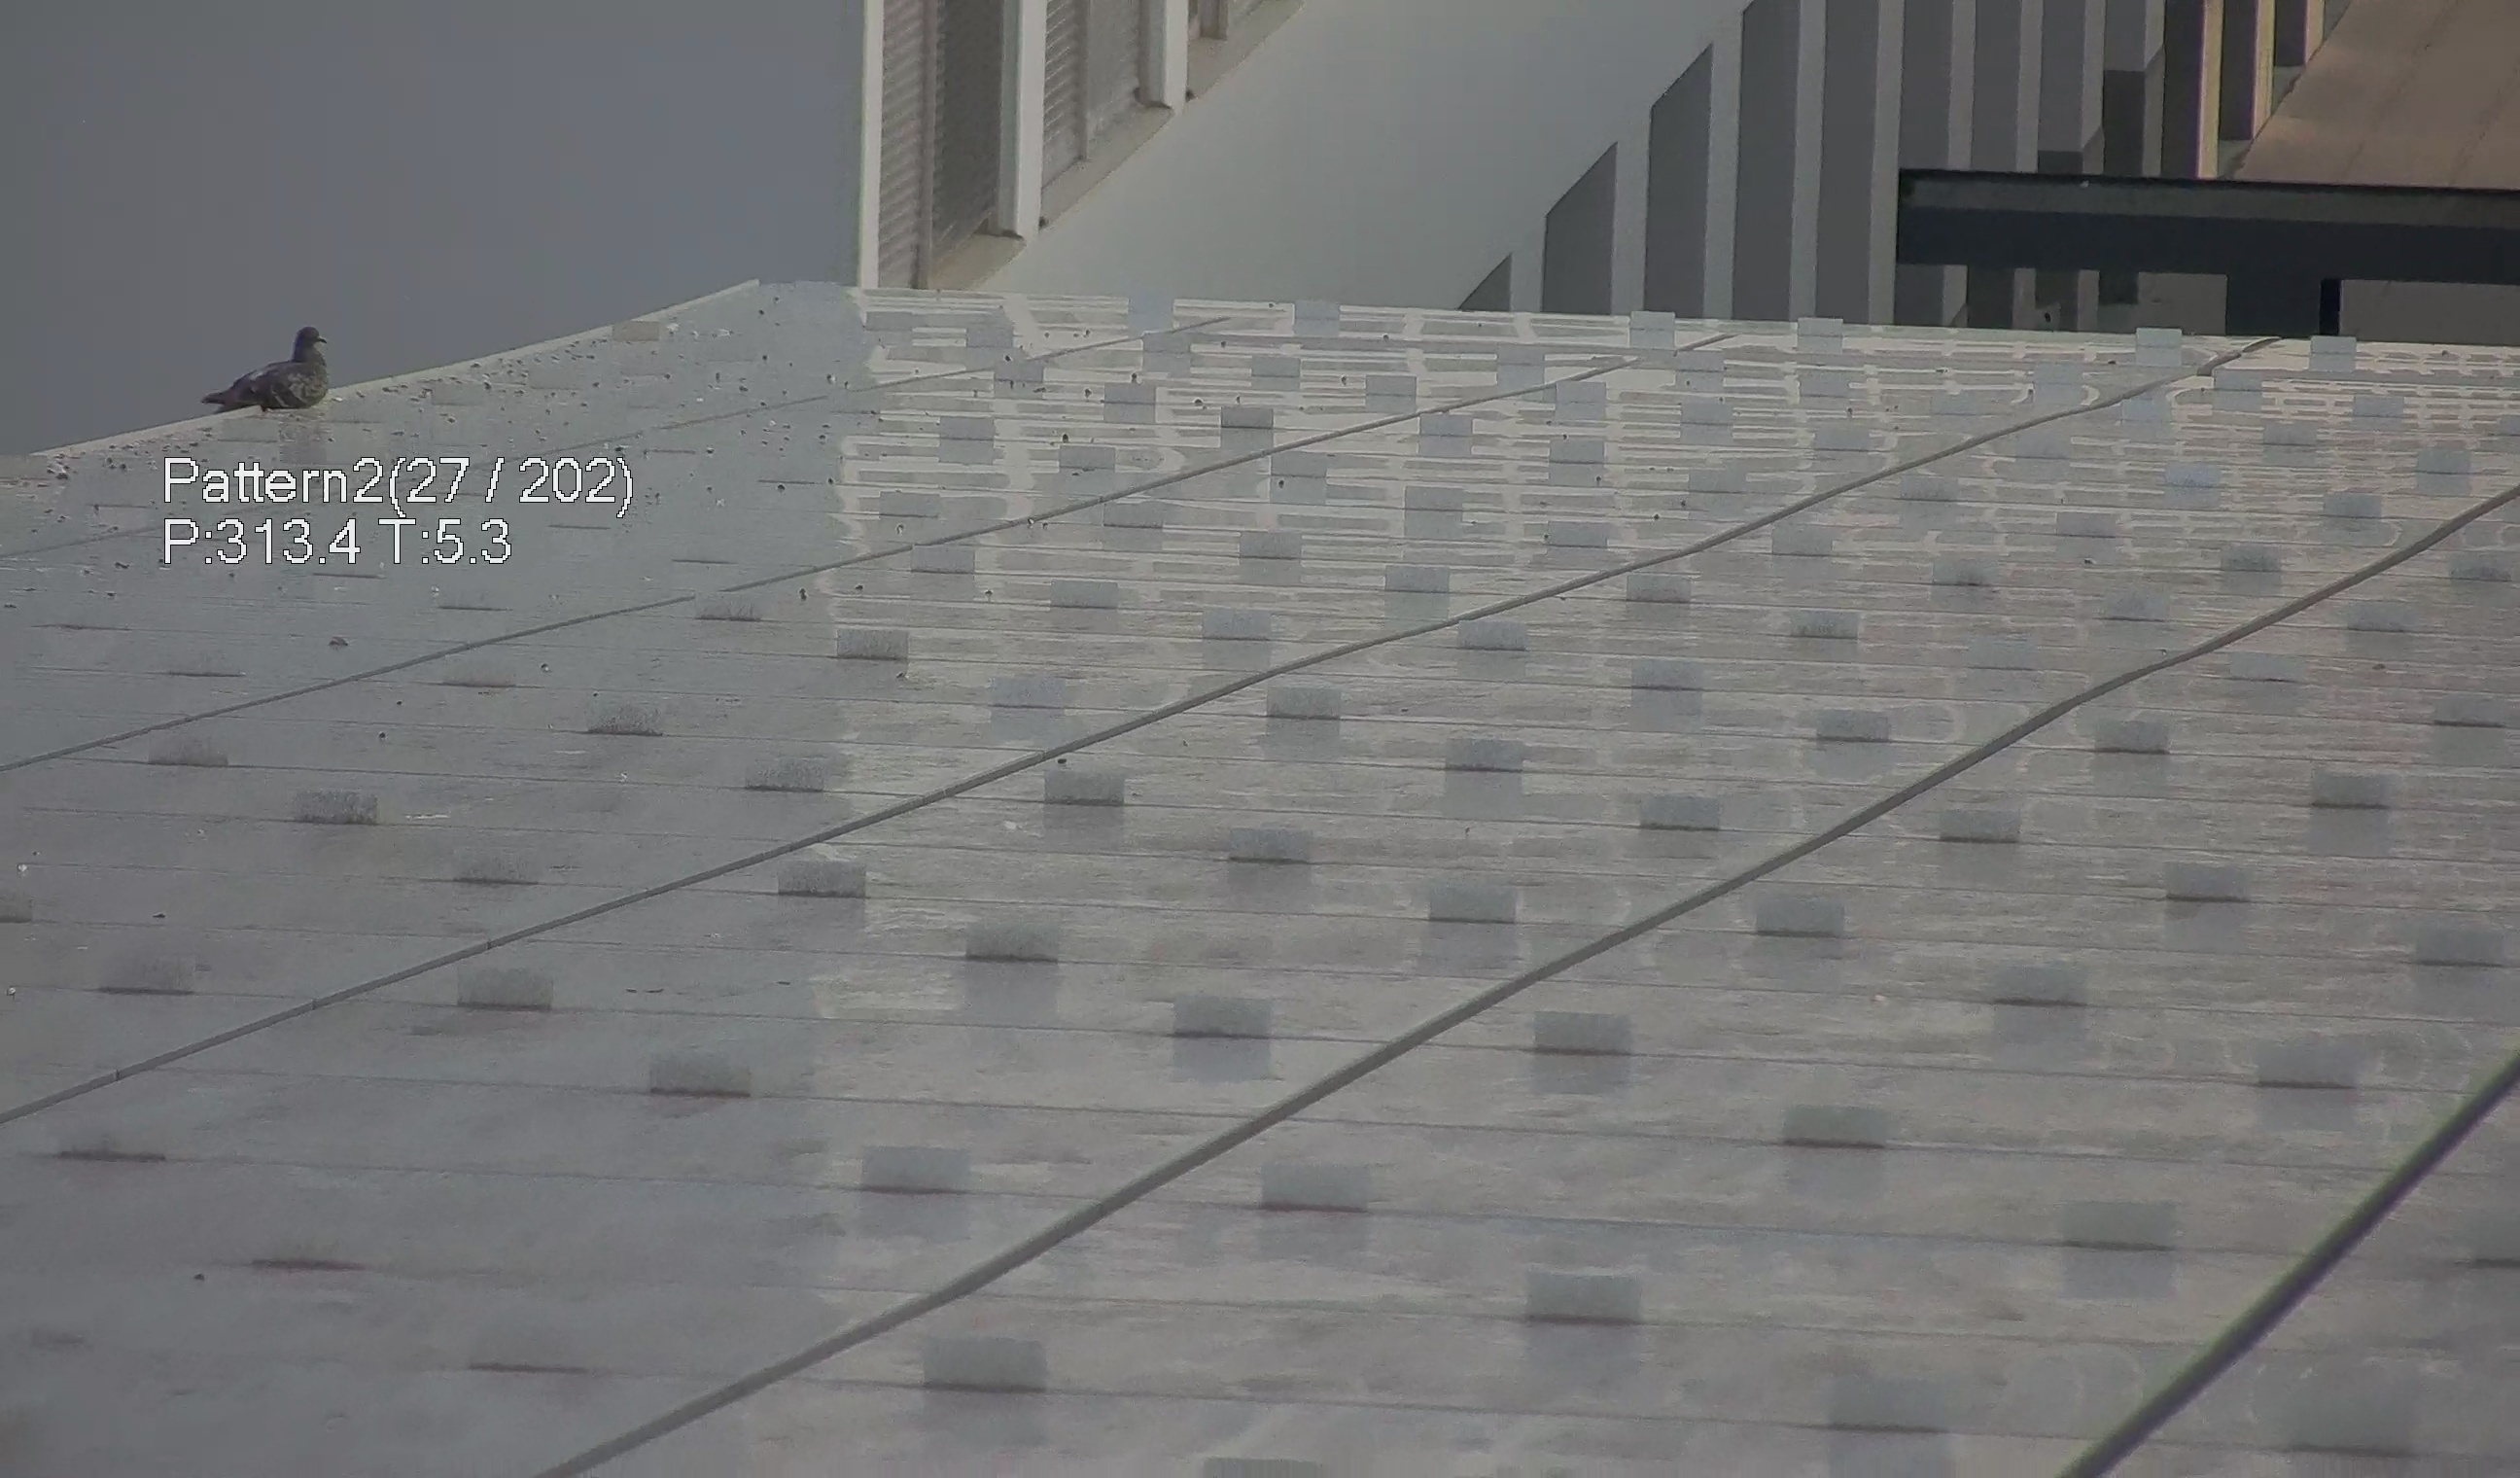Pigeon: (188, 311, 339, 424)
